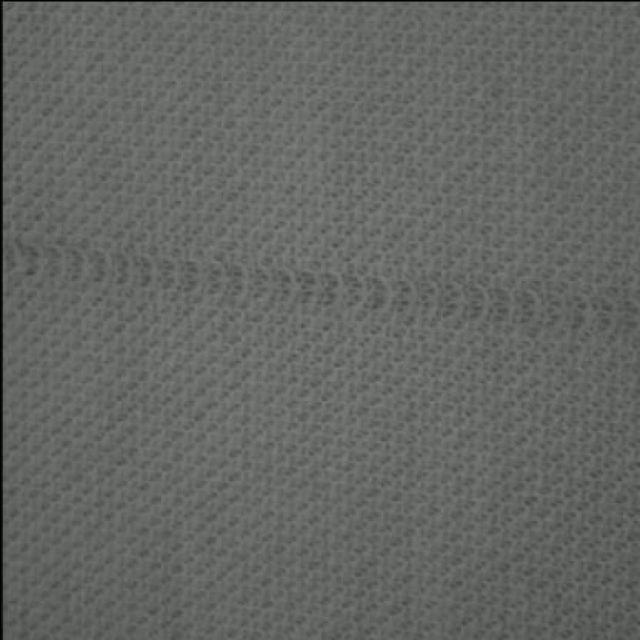Line: (7, 243, 637, 349)
